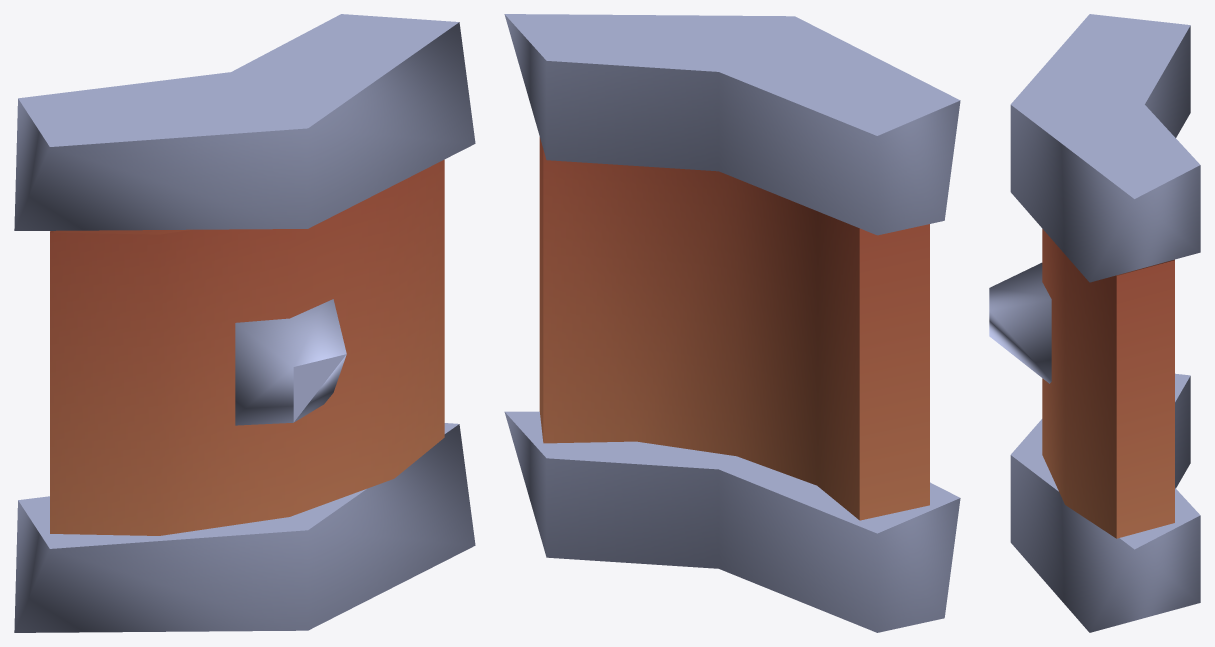
The model's file is cc0-shield-rectangle-lod1.glb.
The picture shows the model from 3 angles, left to right: view 1: azimuth 30°, elevation 25°; view 2: azimuth 150°, elevation 25°; view 3: azimuth 270°, elevation 25°; orthographic projection. The views are drawn at different scales.
Visible parts, largest first — view 1: part_0; view 2: part_0; view 3: part_0.
Part boxes in pixels (box(x1,y1,x2,y2)): part_0: box(14, 14, 475, 632); part_0: box(504, 14, 960, 632); part_0: box(989, 14, 1200, 632).
Size of the model in its own units: 0.2759 by 0.2975 by 0.13.
1 material, 1 textured.
